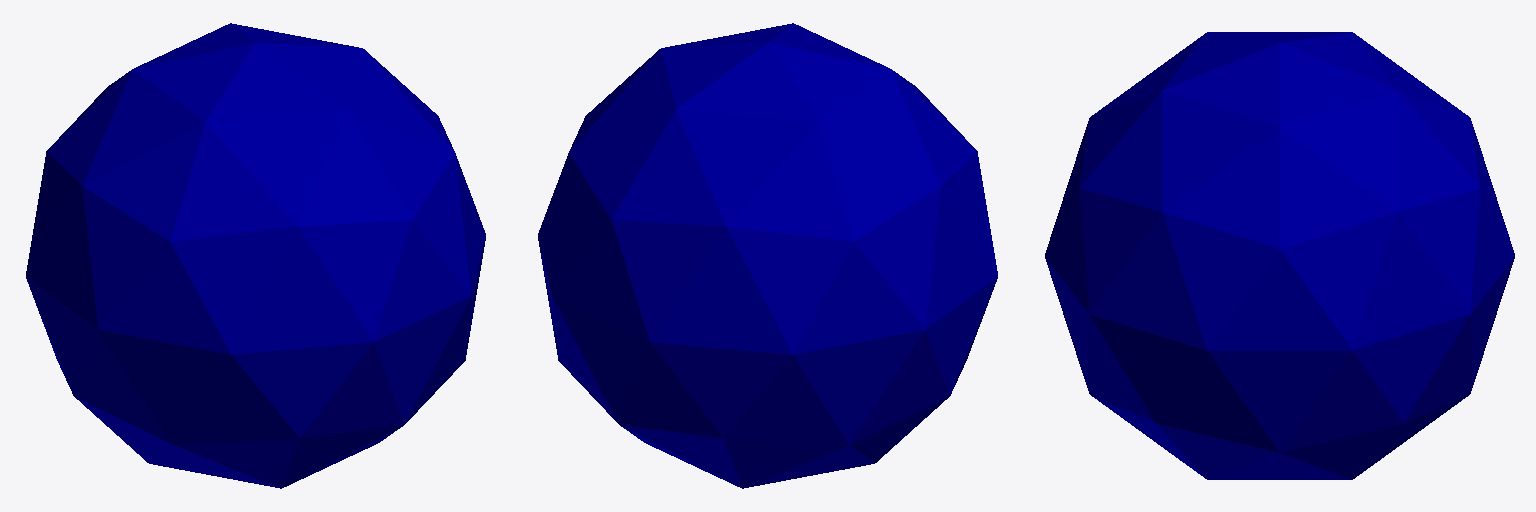
Rendered from ico2.obj.
The picture shows the model from 3 angles: view 1: azimuth 30°, elevation 25°; view 2: azimuth 150°, elevation 25°; view 3: azimuth 270°, elevation 25°; orthographic projection.
Visible parts, largest first — view 1: Icosphere; view 2: Icosphere; view 3: Icosphere.
Part boxes in pixels (bbox=[...]): Icosphere: bbox=[26, 23, 485, 488]; Icosphere: bbox=[538, 23, 997, 488]; Icosphere: bbox=[1045, 32, 1514, 479].
Size of the model in its own units: 1.9 by 2 by 2.